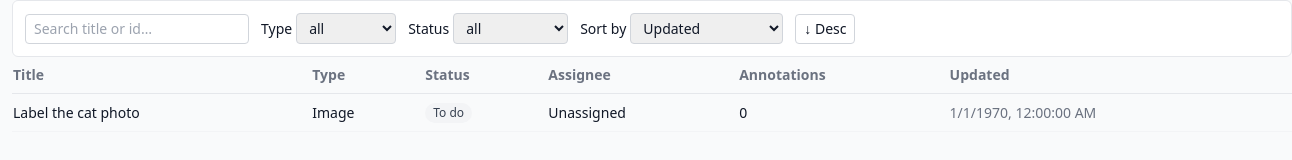
Test case: TaskTable + FiltersBar integration › shows an empty state when no task matches the filters
Type "zzz-no-match" into the field named "Search tasks" at [137, 28], box [25,14,249,44]
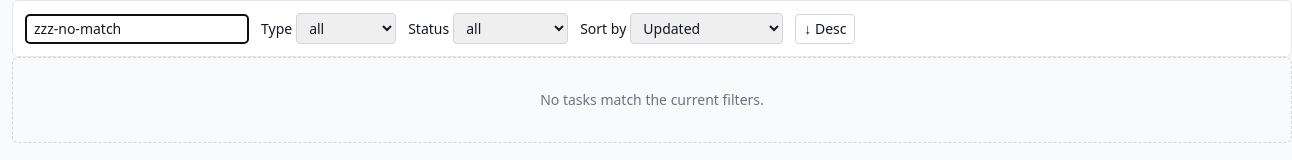
Expected: the text "No tasks match the current filters." is shown, [12,57,1291,143]
